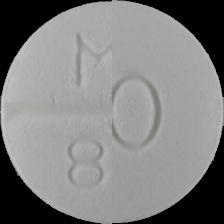53489-387: (0, 0, 224, 224)
